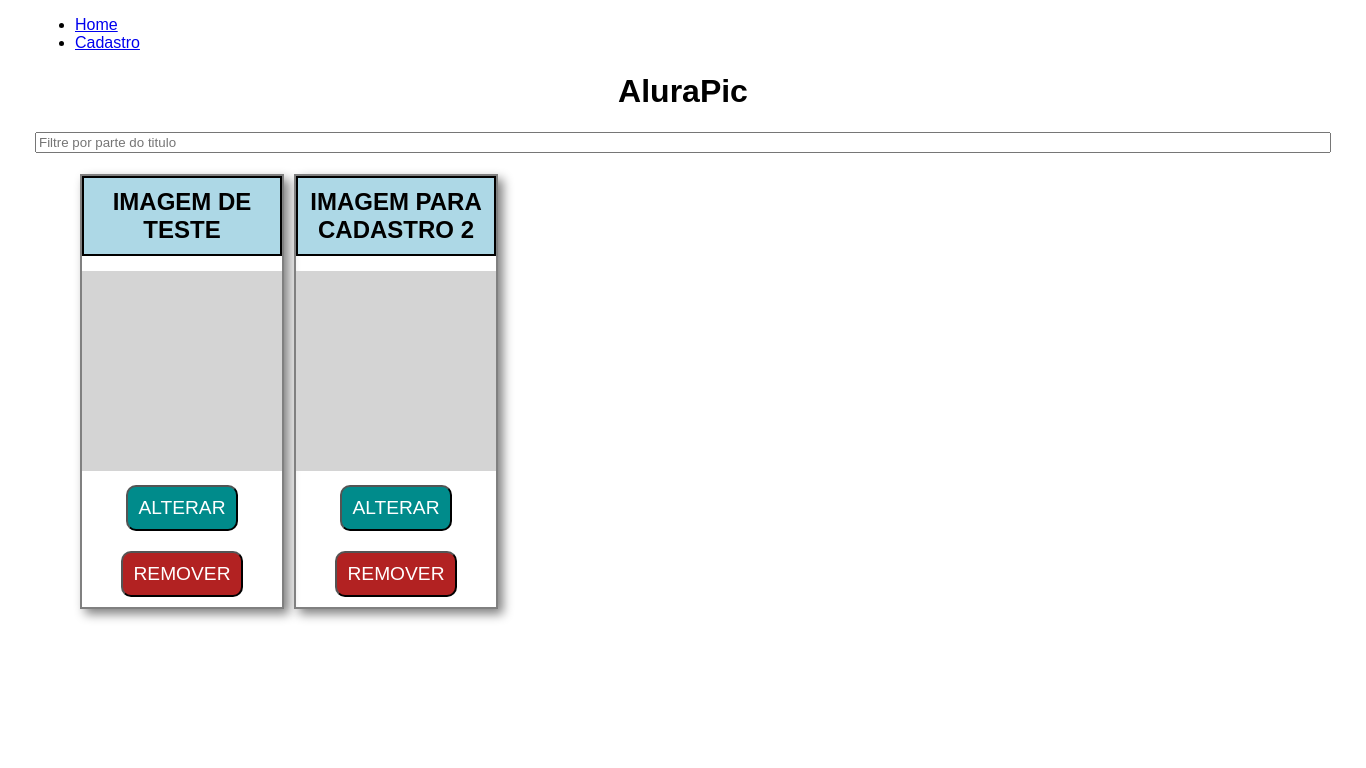
Test: Grupo de testes › Teste de remoção de imagem
The image size is (1366, 768).
Click the button with test id ":nth-child(2) > .painel > div > [data-cy=apagar]": click(397, 574) [336,551,457,597]
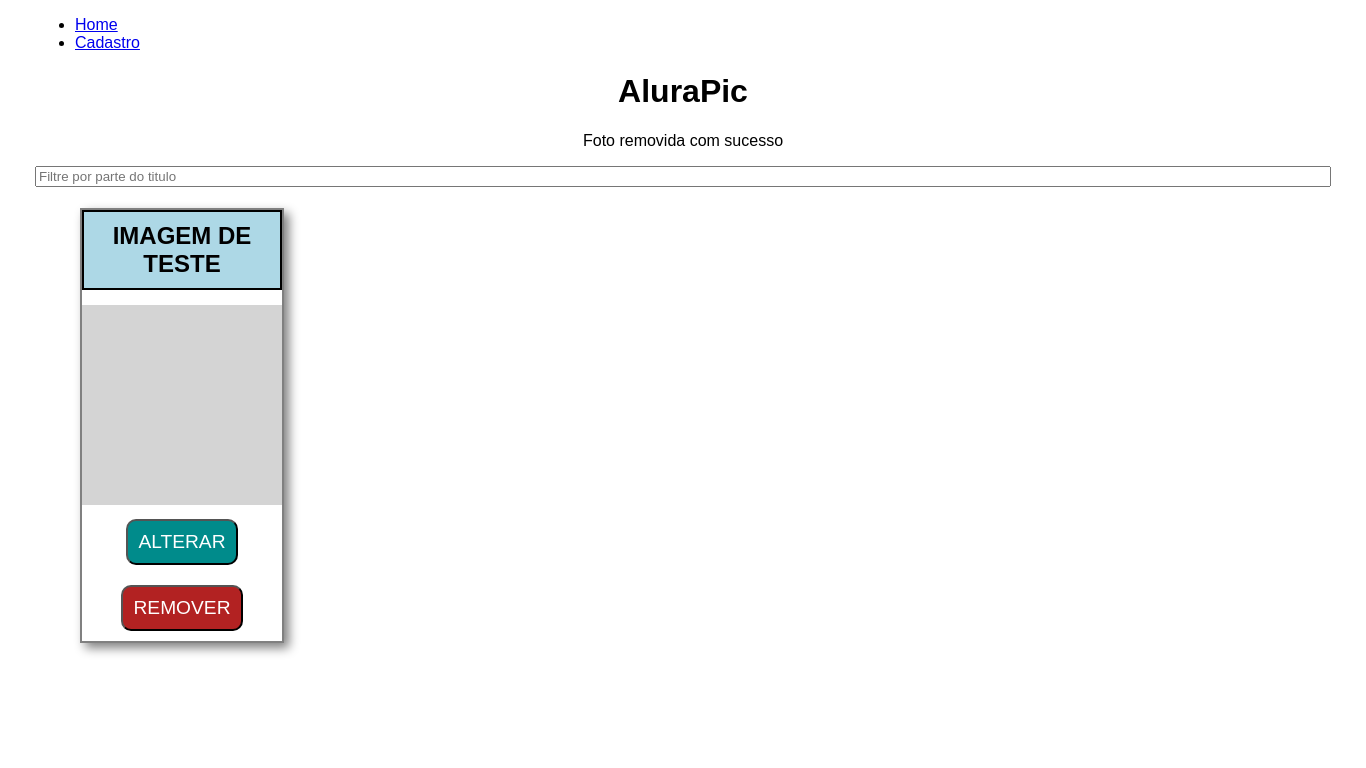
expect the text with class "centralizado" reads "Foto removida com sucesso": met, box [583,132,783,149]
